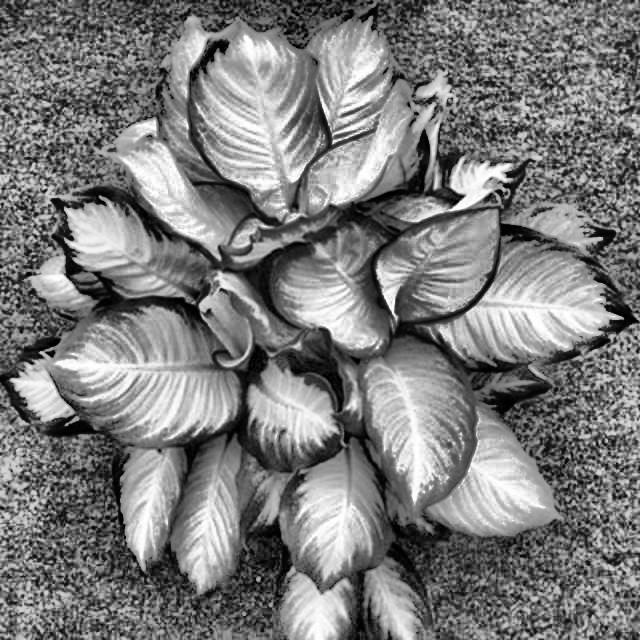plants: (58, 28, 531, 635)
